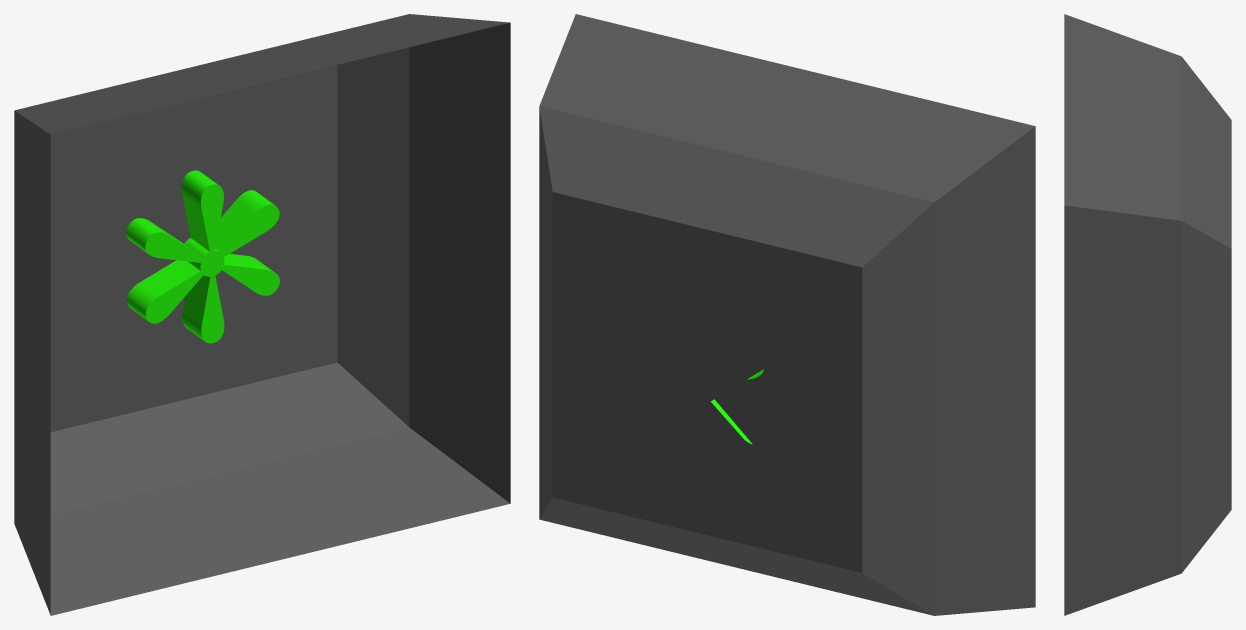
Rendered from star.fbx.
3 views of the same model, side by side, from view 1: azimuth 30°, elevation 25°; view 2: azimuth 150°, elevation 25°; view 3: azimuth 270°, elevation 25° (orthographic). The views are drawn at different scales.
Visible parts, largest first — view 1: key 2.012; view 2: key 2.012; view 3: key 2.012.
Boxes of the visible parts, x1,y1,x2,y2 form: key 2.012: (14,14,510,615); key 2.012: (539,14,1035,615); key 2.012: (1064,14,1231,615).
Bounding box in the file's own units: 4.81 × 4.81 × 1.78.
